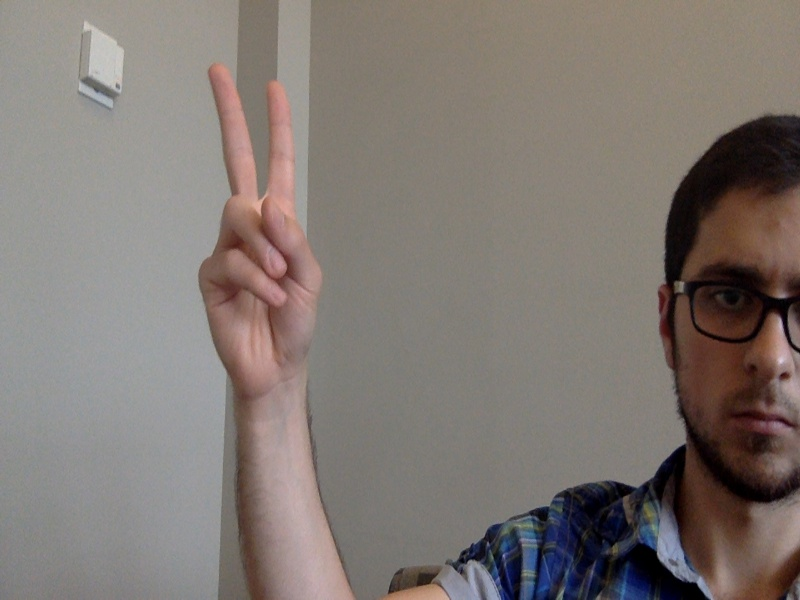2-hand: (195, 63, 326, 414)
